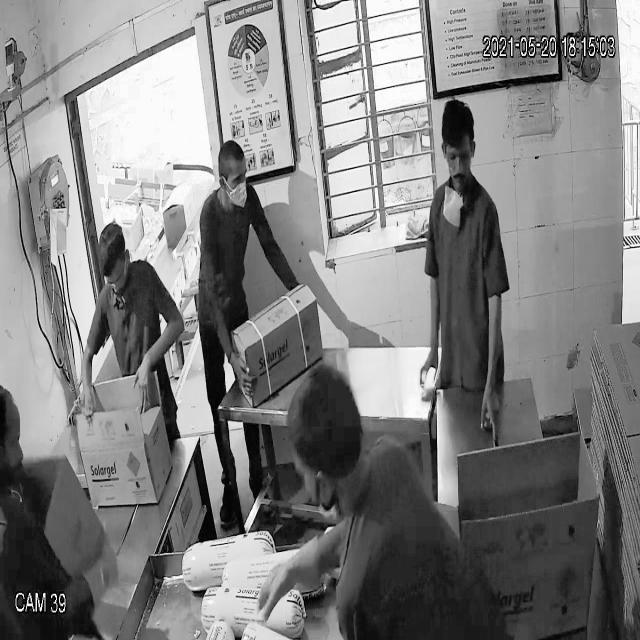glasses: (100, 266, 134, 292)
no-glass: (439, 142, 479, 169), (218, 171, 252, 193)
